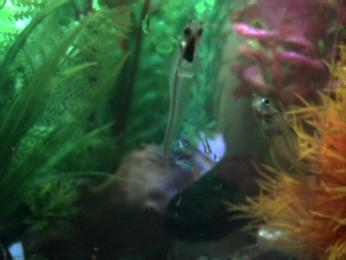X-ray fish: (250, 91, 308, 180)
glassfish: (151, 18, 205, 174)
